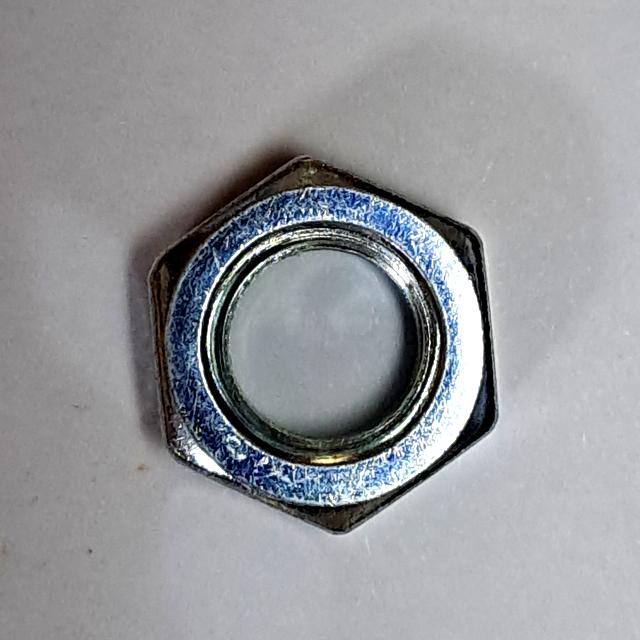Excellent: (134, 137, 519, 555)
